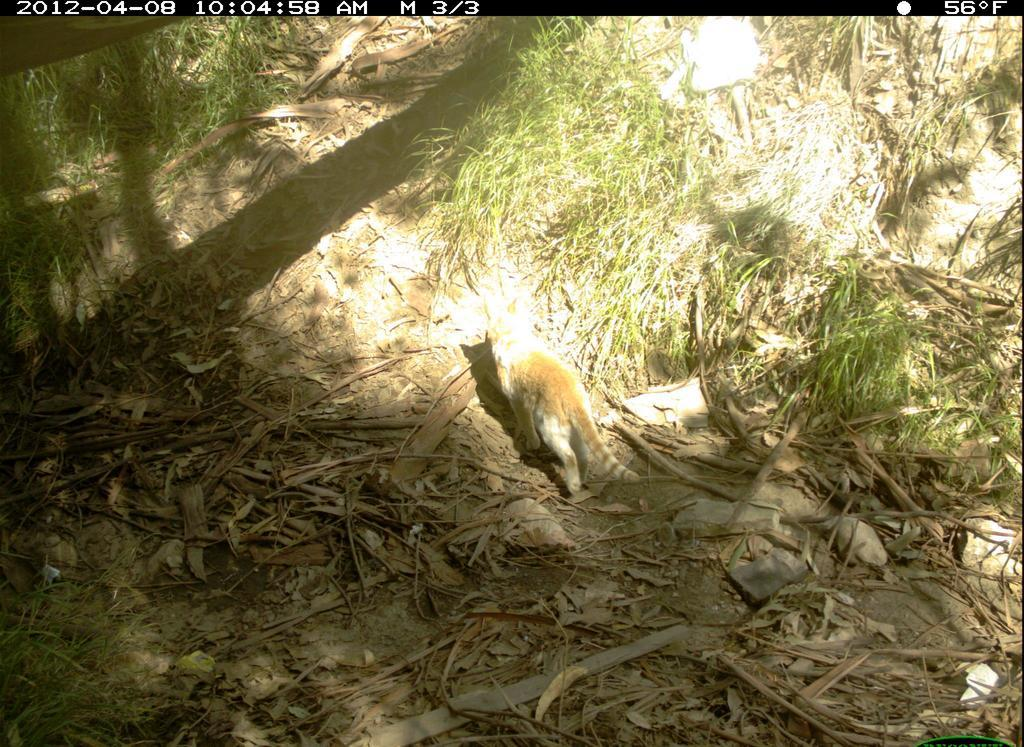cat: (478, 282, 653, 514)
